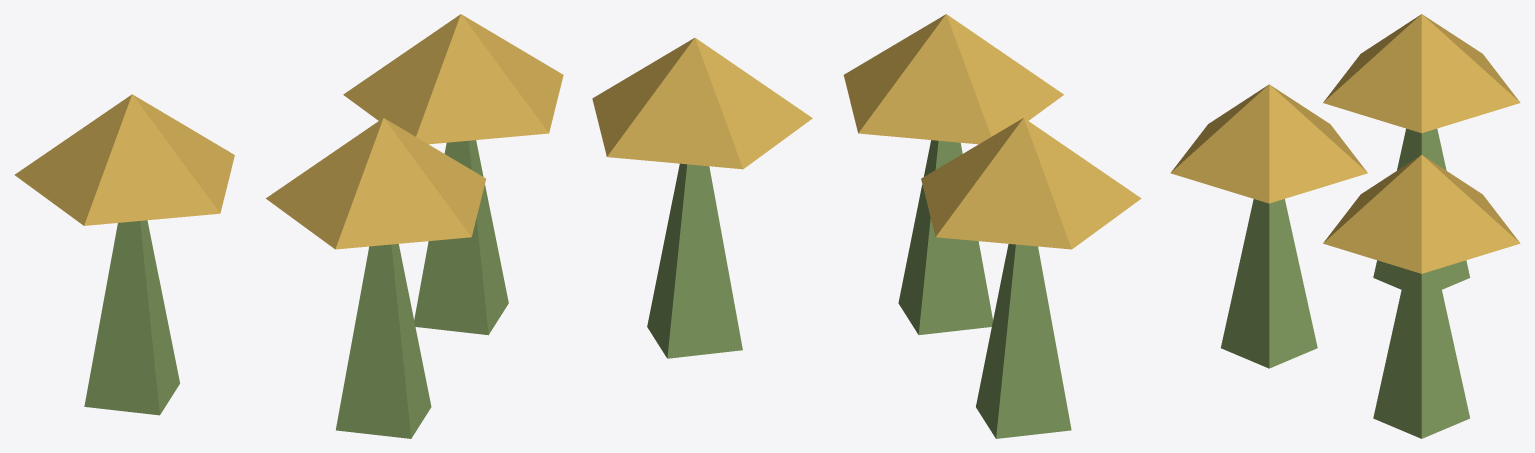
File: flower_02.glb
3 views of the same model, side by side, from view 1: azimuth 30°, elevation 25°; view 2: azimuth 150°, elevation 25°; view 3: azimuth 270°, elevation 25° (orthographic). The views are drawn at different scales.
Bounding box in the file's own units: 0.7514 × 0.42 × 0.5053.
